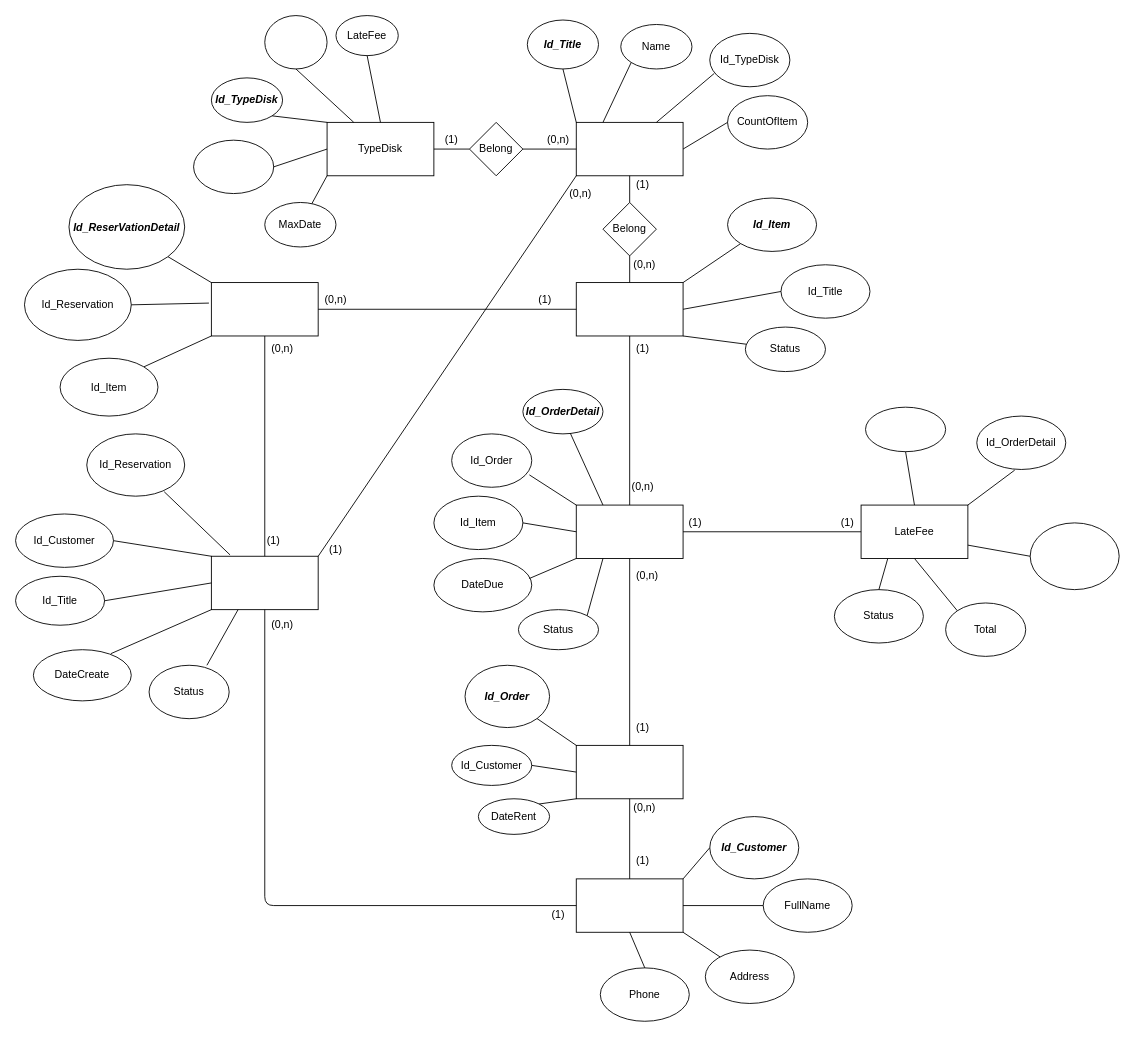
Some shapes in this 1135 by 1037 pixel diagram are drawn without their labels. The box of each missing label's shape, as (x1, y1, x2, y2) in pixels:
Customer: (575, 878, 683, 932)
Id_LateFee: (865, 406, 946, 452)
Item: (575, 282, 683, 336)
NameTypeDisk: (193, 139, 274, 194)
NumOfDateLate: (1029, 522, 1119, 590)
Order: (575, 744, 683, 799)
OrderDetail: (575, 504, 683, 558)
RentPrice: (264, 15, 327, 69)
Reservation: (210, 555, 318, 610)
ReservationDetail: (210, 282, 318, 336)
Title: (575, 121, 683, 176)
